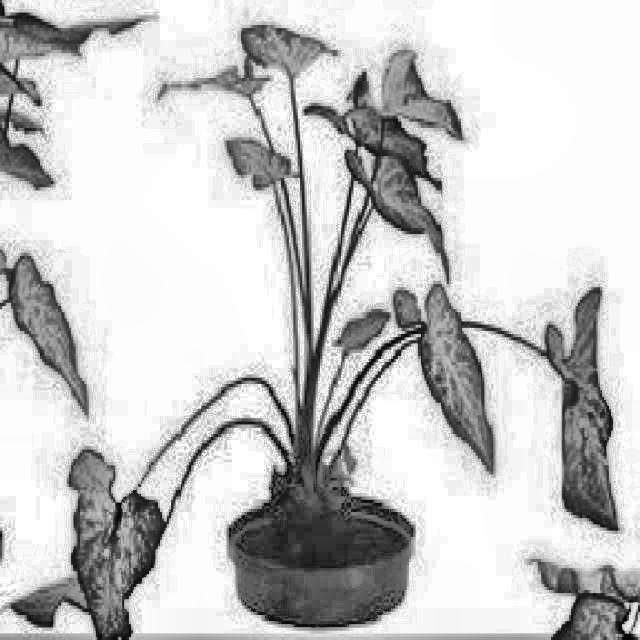plants: (24, 281, 638, 637)
